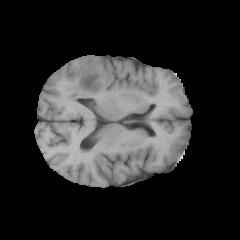glioma: (64, 64, 103, 102)
